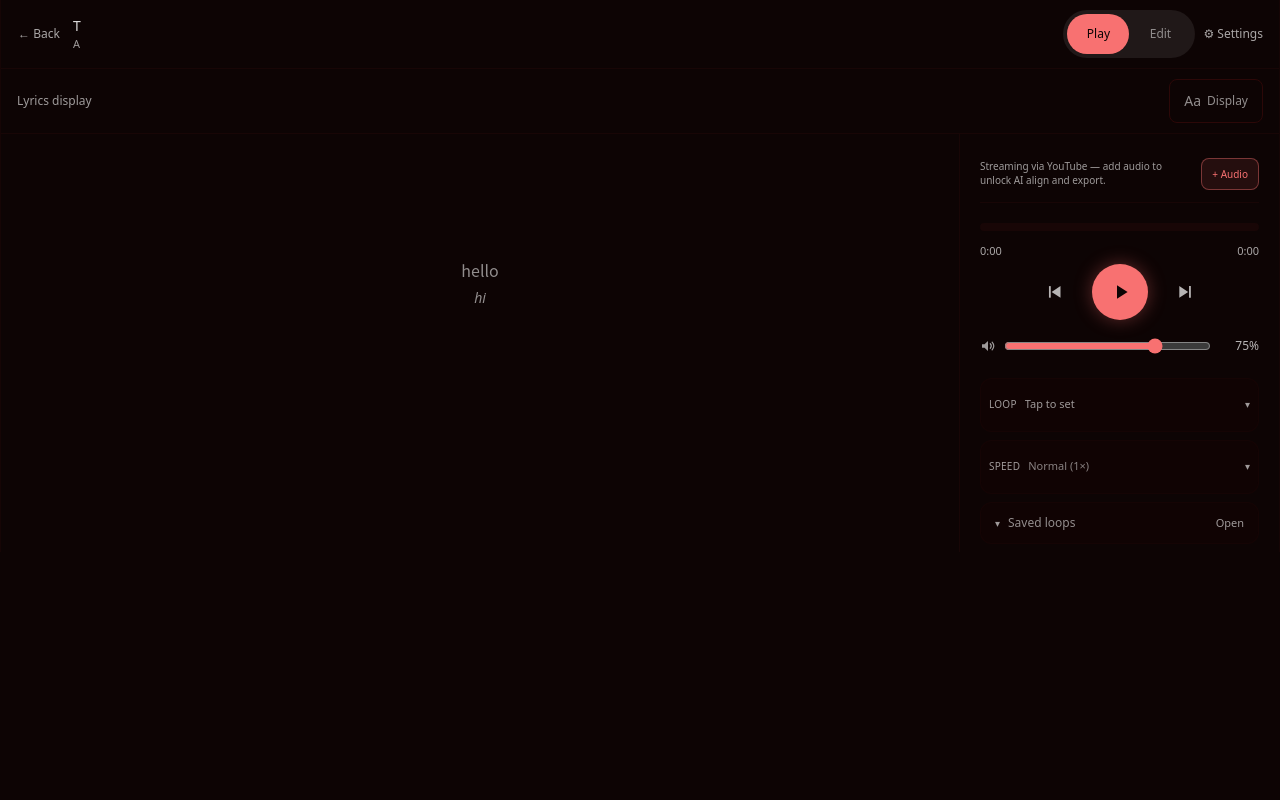
Test: SongScreen Play/Edit toggle › switches from Play mode to Edit mode and shows editable rows
The width and height of the screenshot is (1280, 800).
Expected: the text "hello" is shown, top-left (461, 258), bottom-right (499, 282)
Step 1. Click the button "Edit" → click(1160, 34), box top-left (1130, 14), bottom-right (1192, 54)
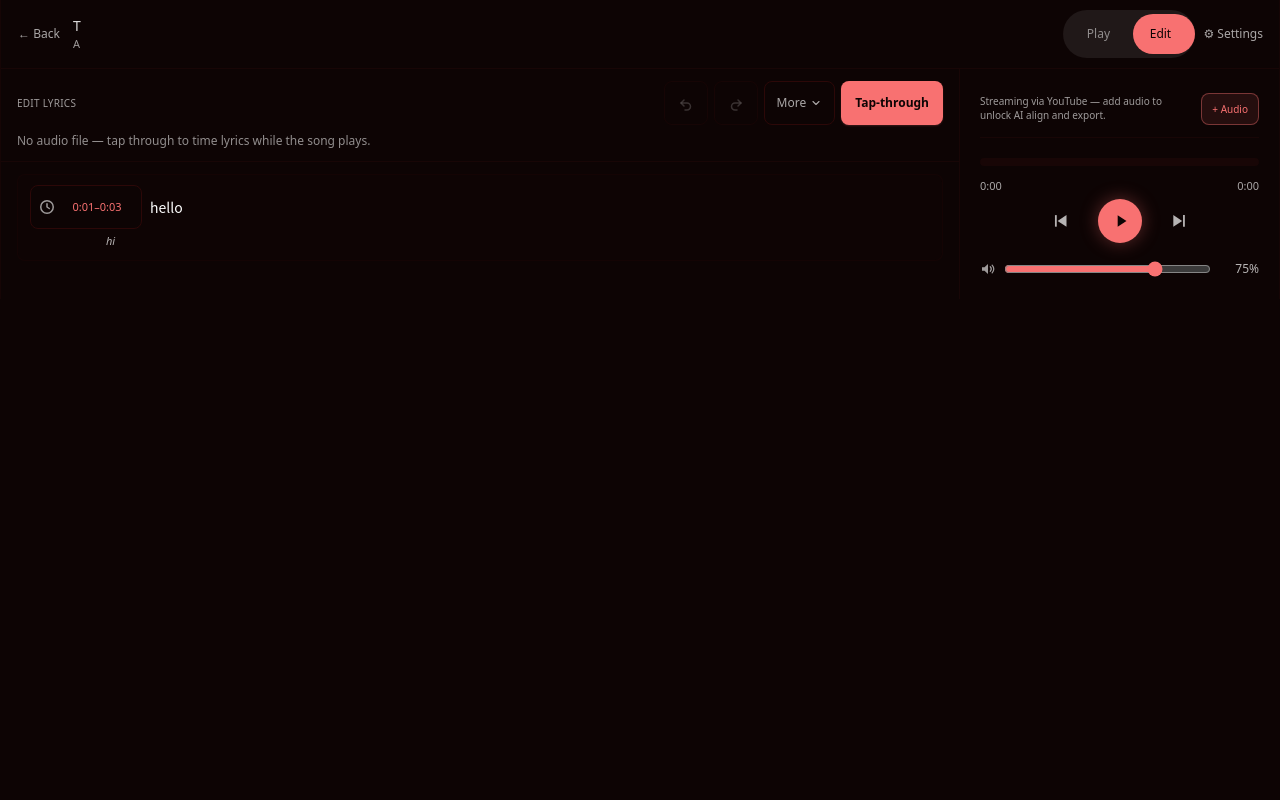
Expected: the button named "edit timestamp for line 1" is shown, top-left (30, 185), bottom-right (142, 229)
